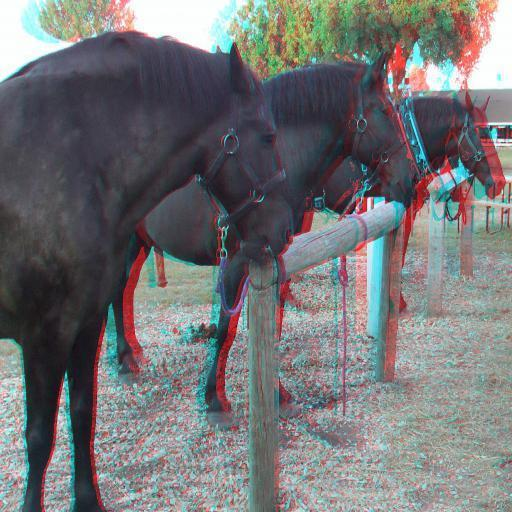horse: (0, 30, 294, 512), (109, 48, 422, 432), (310, 88, 508, 310)
